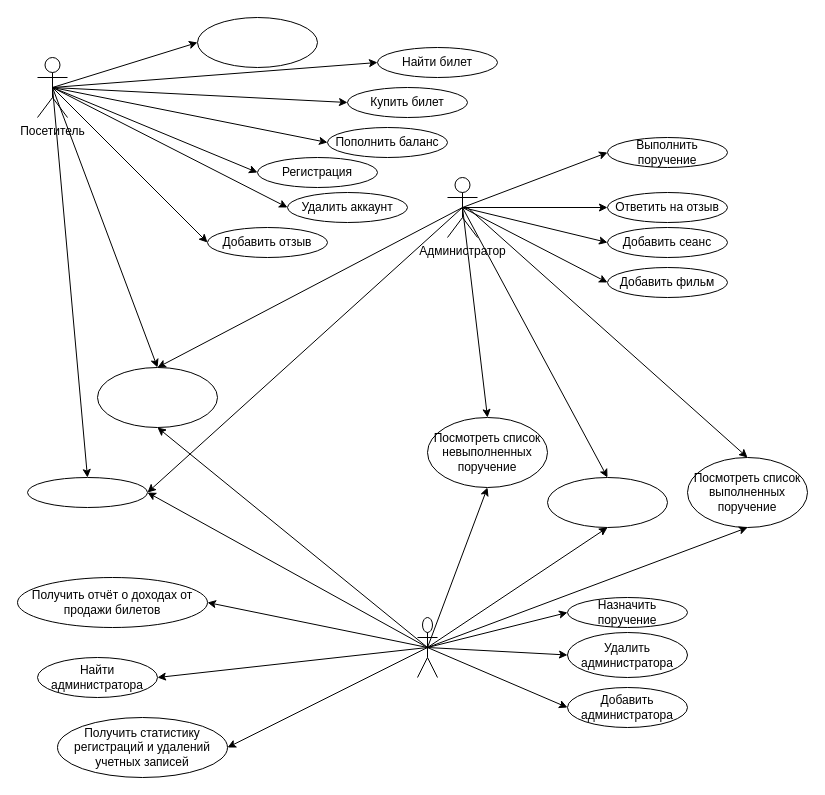
The diagram is 825 pixels wide and 795 high, and some of its shapes have lost their labels. Each missing label, with the centre of its shape:
Менеджер: (x=427, y=647)
Посмотреть отзывы: (x=87, y=492)
Посмотреть расписание сеансов кинотеатра: (x=157, y=397)
Посмотреть список купленных билетов: (x=257, y=42)
Посмотреть список фильмов: (x=607, y=502)
